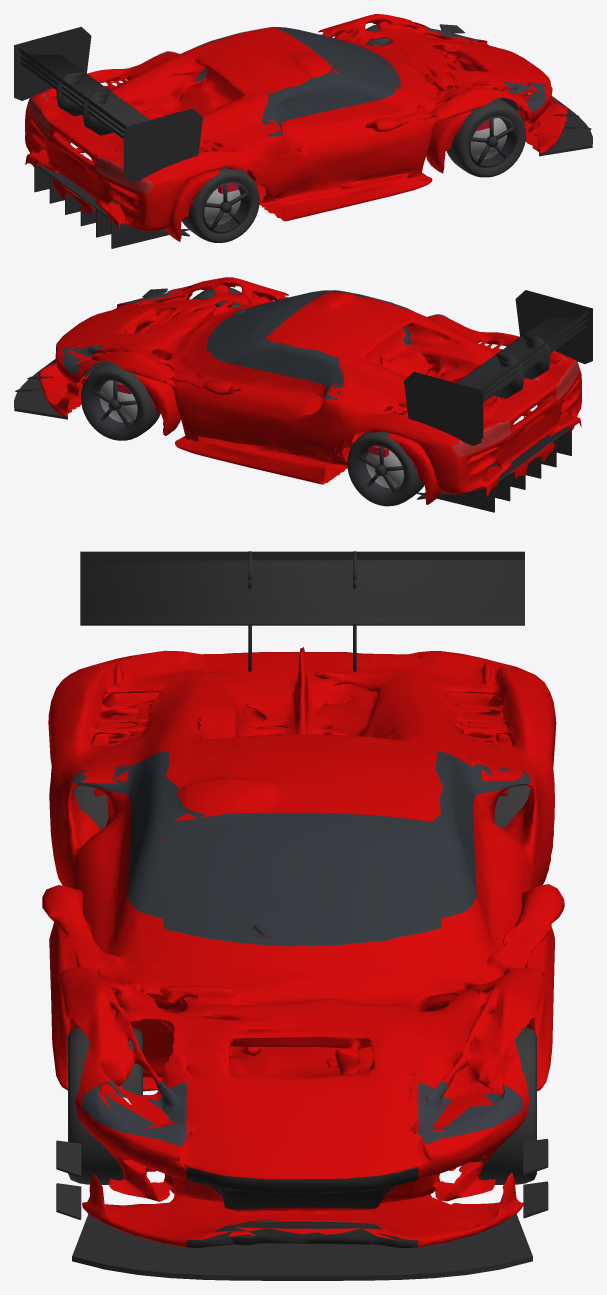
Rendered from ferrari_296_gt3.glb.
The picture shows the model from 3 angles, top to bottom: view 1: azimuth 30°, elevation 25°; view 2: azimuth 150°, elevation 25°; view 3: azimuth 270°, elevation 25°; orthographic projection. The views are drawn at different scales.
Visible parts, largest first — view 1: body, bumper_rear, wing_rear_up3, cabin, wheel_fr_spin, wheel_rr_spin, bumper_front, diffuser, wing_rear_up2, wing_rear, splitter_up, splitter; view 2: body, bumper_rear, wing_rear_up3, cabin, wheel_fl_spin, bumper_front, wheel_rl_spin, diffuser, wing_rear_up2, wing_rear, splitter_up, splitter (+1 smaller); view 3: body, bumper_front, cabin, wing_rear_up3, bumper_rear, splitter_up, splitter, wheel_fr_spin, canards, wheel_fl_spin, wheel_rl_spin, wheel_rr_spin.
Boxes of the visible parts, x1,y1,x2,y2 form: body: (50, 14, 541, 241); bumper_rear: (25, 87, 181, 232); wing_rear_up3: (14, 26, 202, 182); cabin: (158, 26, 400, 136); wheel_fr_spin: (446, 98, 525, 177); wheel_rr_spin: (182, 168, 259, 242); bumper_front: (437, 29, 568, 153); diffuser: (34, 163, 189, 248); wing_rear_up2: (16, 36, 125, 175); wing_rear: (16, 44, 125, 172); splitter_up: (539, 96, 592, 156); splitter: (548, 113, 585, 150); body: (64, 277, 545, 504); bumper_rear: (430, 351, 581, 496); wing_rear_up3: (404, 290, 592, 445); cabin: (206, 290, 447, 399); wheel_fl_spin: (81, 361, 160, 440); bumper_front: (38, 293, 167, 417); wheel_rl_spin: (347, 431, 424, 506); diffuser: (417, 422, 578, 512); wing_rear_up2: (481, 300, 590, 438); wing_rear: (481, 307, 590, 435); splitter_up: (14, 359, 67, 419); splitter: (21, 378, 58, 413); body: (42, 647, 564, 1206); bumper_front: (82, 1091, 522, 1248); cabin: (72, 750, 531, 945); wing_rear_up3: (80, 551, 524, 671); bumper_rear: (48, 650, 556, 766); splitter_up: (72, 1214, 532, 1280); splitter: (79, 1218, 525, 1270); wheel_fr_spin: (68, 1027, 142, 1184); canards: (56, 1138, 548, 1219); wheel_fl_spin: (470, 1027, 536, 1184); wheel_rl_spin: (494, 785, 530, 828); wheel_rr_spin: (74, 785, 108, 829).
Size of the model in its own units: 4.84 by 1.35 by 2.25.
